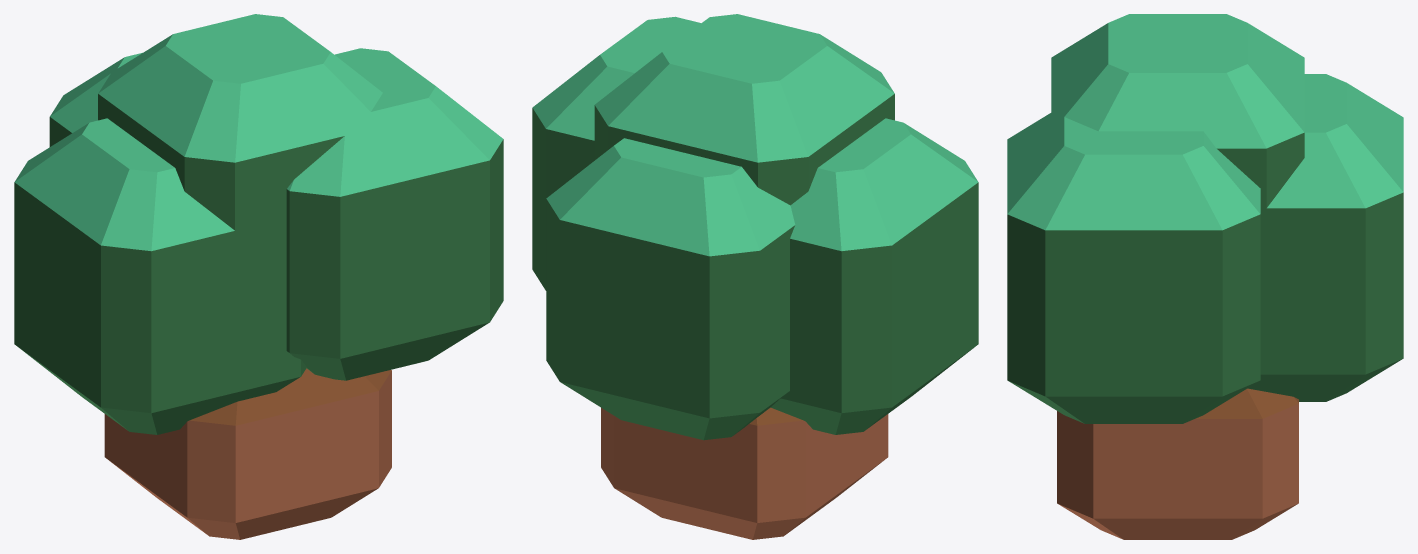
Rendered from decor.gltf.
The picture shows the model from 3 angles, left to right: view 1: azimuth 30°, elevation 25°; view 2: azimuth 150°, elevation 25°; view 3: azimuth 270°, elevation 25°; orthographic projection. The views are drawn at different scales.
Visible parts, largest first — view 1: decor; view 2: decor; view 3: decor.
Boxes of the visible parts, x1=… form: decor: x1=14, y1=14, x2=503, y2=539; decor: x1=532, y1=14, x2=978, y2=539; decor: x1=1007, y1=14, x2=1403, y2=539.
Bounding box in the file's own units: 0.41 × 0.465 × 0.36.
Materials: 1 (1 with a texture image).
